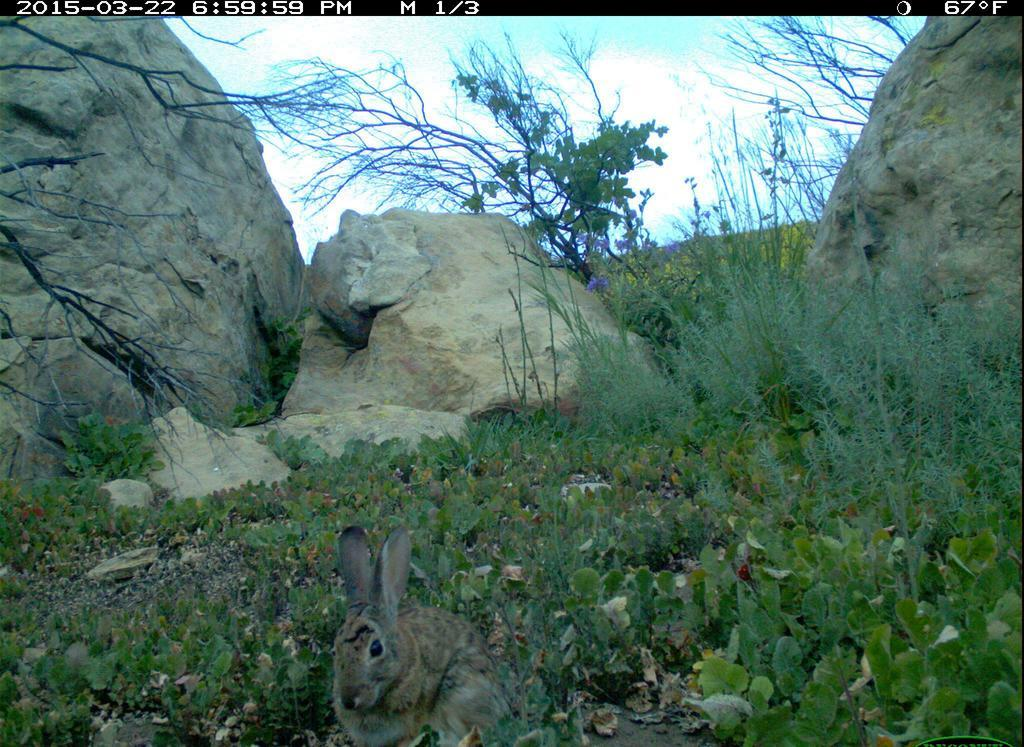rabbit: (322, 518, 524, 747)
